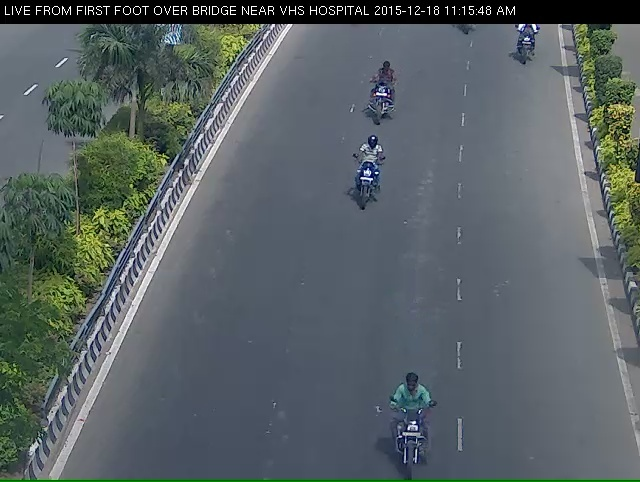Person: (379, 408, 432, 479), (345, 147, 380, 225), (355, 67, 393, 137), (512, 24, 545, 70)
